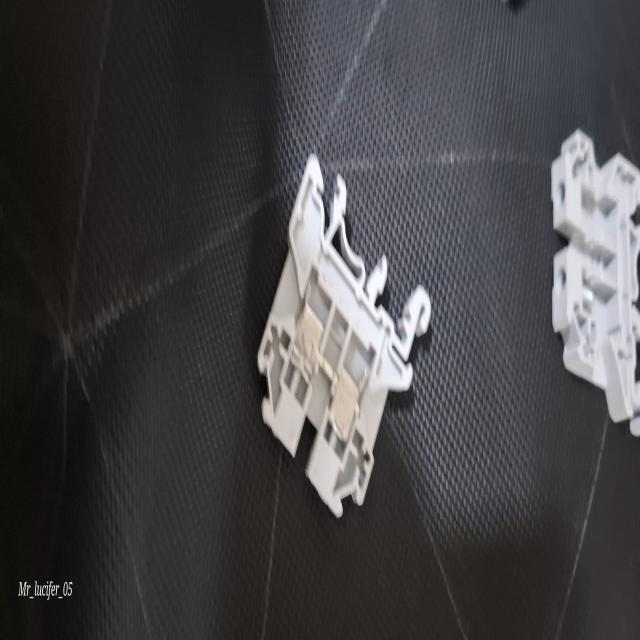Pass: (248, 153, 434, 532)
Reject: (550, 125, 640, 468)
